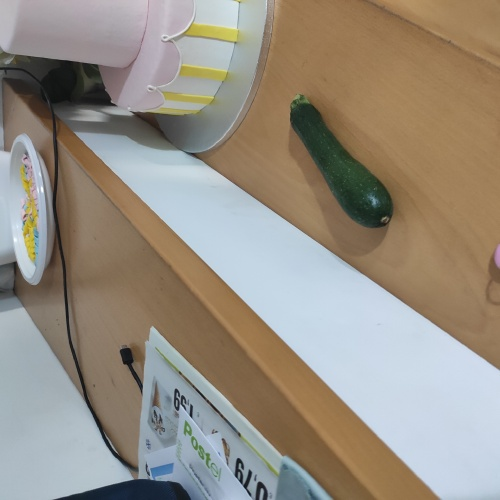zucchine: (289, 91, 409, 245)
